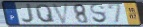7: (107, 3, 125, 24)
8: (72, 4, 90, 25)
J: (21, 3, 36, 25)
Q: (35, 3, 57, 23)
S: (89, 3, 109, 25)
V: (51, 3, 70, 24)
